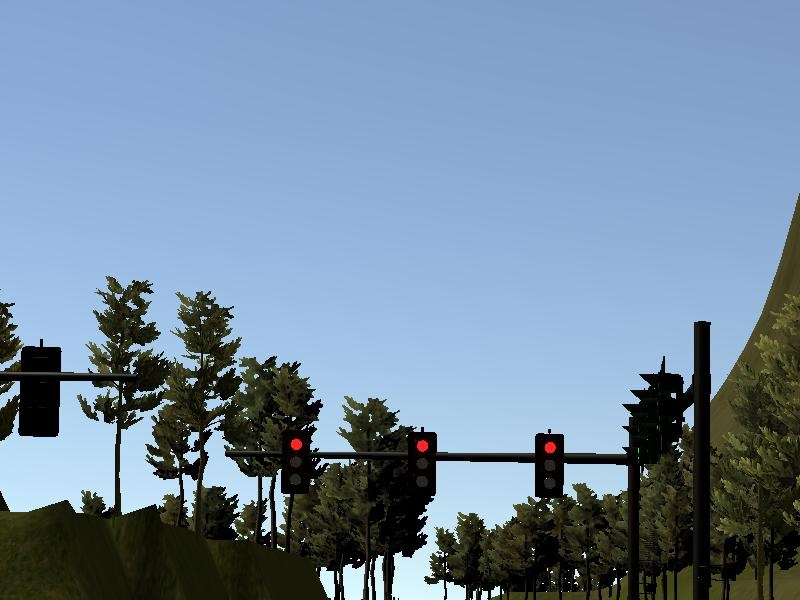red: (405, 430, 440, 499), (533, 430, 567, 499), (280, 427, 311, 497)
